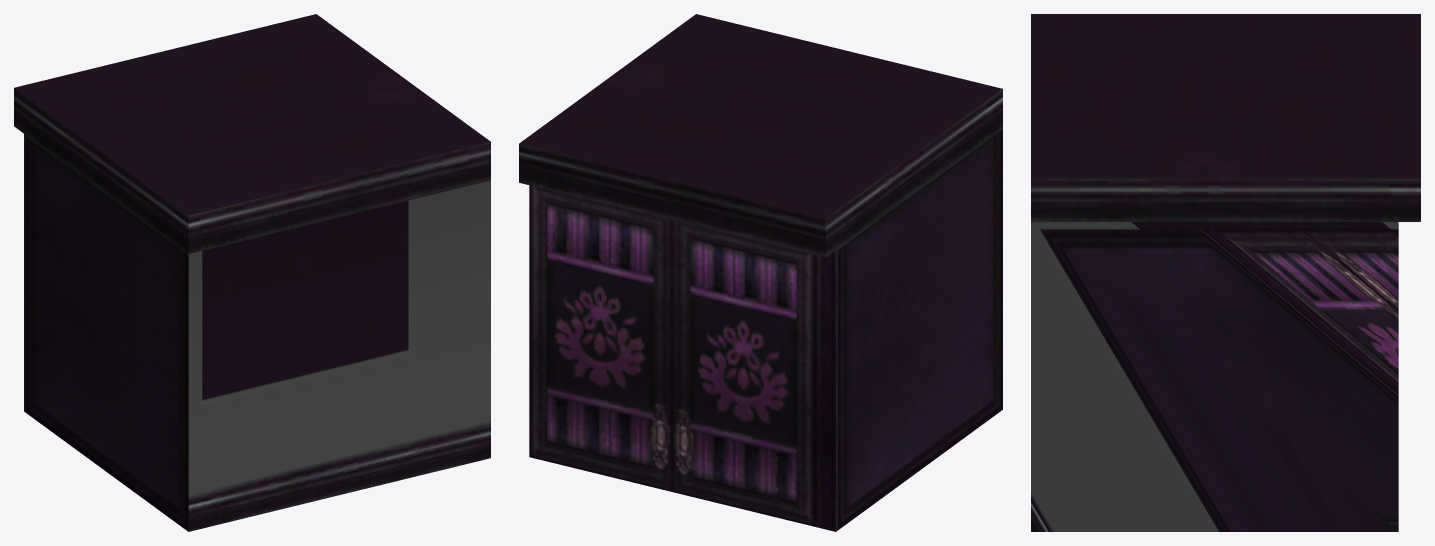
File: furni_0201222_02.FBX
3 views of the same model, side by side, from view 1: azimuth 30°, elevation 25°; view 2: azimuth 150°, elevation 25°; view 3: azimuth 270°, elevation 25° (orthographic). The views are drawn at different scales.
Visible parts, largest first — view 1: furni_0201222_02; view 2: furni_0201222_02; view 3: furni_0201222_02.
Part boxes in pixels (x1=…): furni_0201222_02: x1=14, y1=14, x2=490, y2=531; furni_0201222_02: x1=519, y1=14, x2=1002, y2=531; furni_0201222_02: x1=1031, y1=14, x2=1420, y2=531.
Size of the model in its own units: 80 by 80 by 80.
